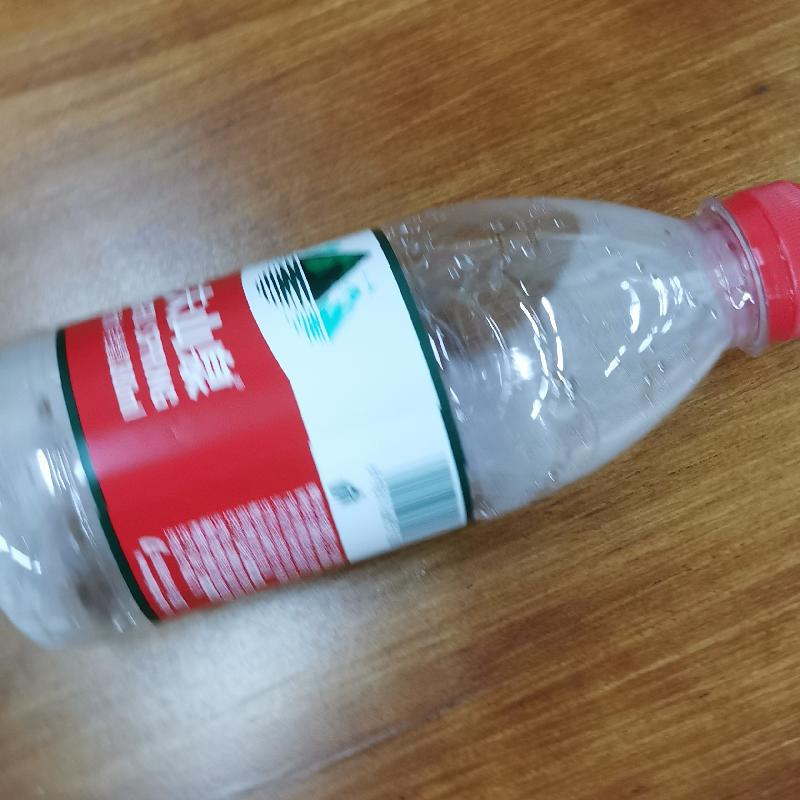bottles: (0, 178, 799, 657)
